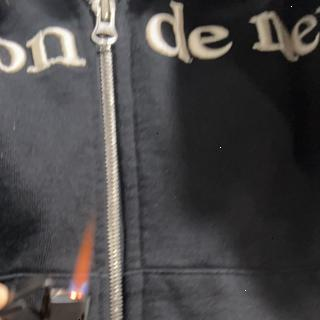fire: (69, 218, 97, 298)
